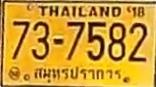2: (128, 21, 146, 62)
3: (30, 20, 48, 59)
5: (86, 21, 105, 60)
7: (66, 21, 84, 59), (12, 20, 29, 58)
8: (107, 21, 125, 60)
SPK: (31, 63, 124, 84)
